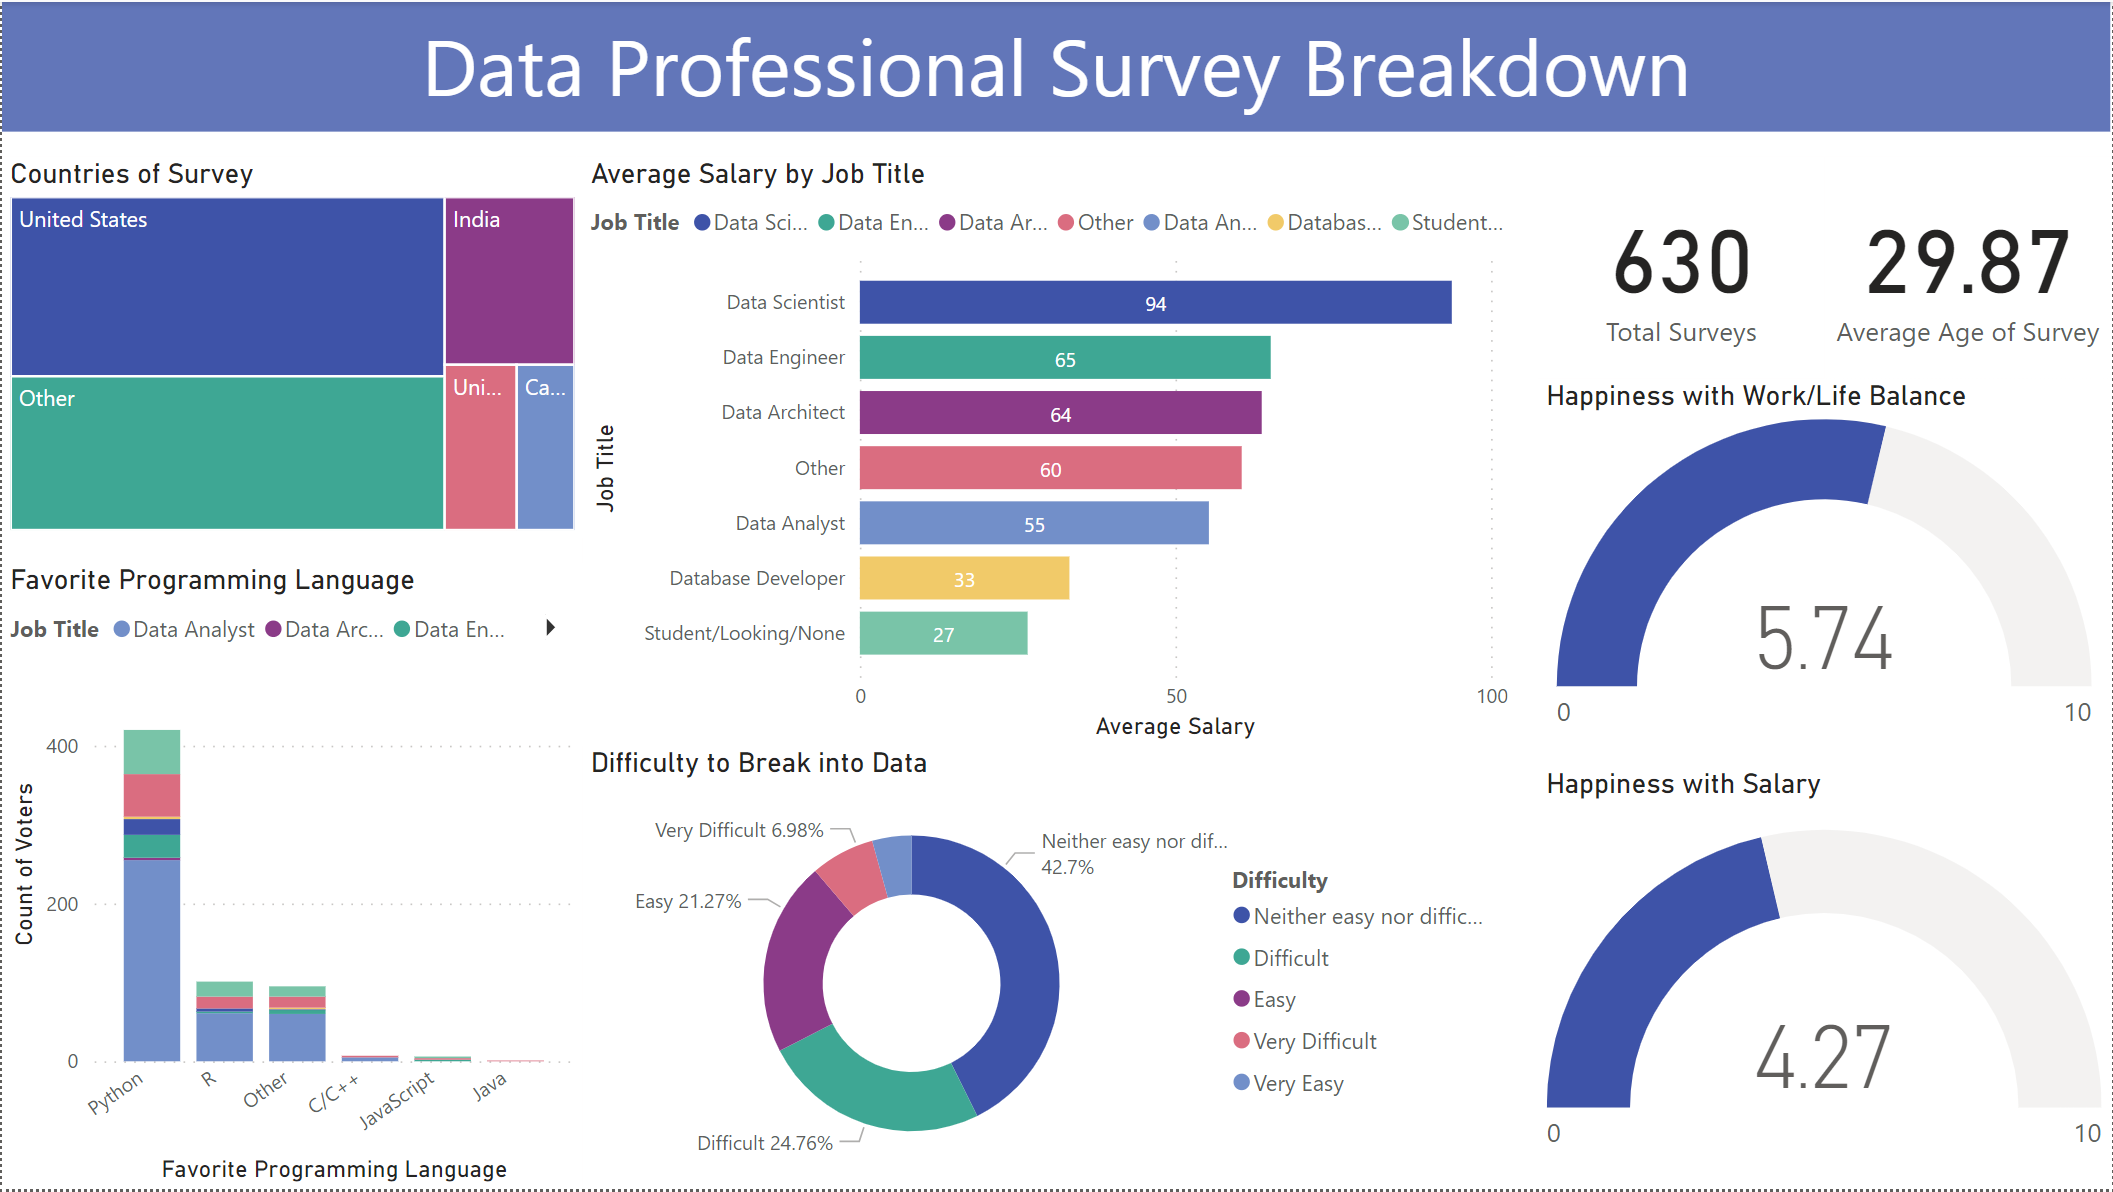

Layout of this report page (visuals, bound fields, positions):
{"tool":"powerbi","page":{"name":"Page 1","canvas":[1280,720],"ordinal":0},"visuals":[{"type":"textbox","box":[0,0,1279.5,78.5],"z":0},{"type":"card","fields":{"Values":["CountNonNull(Data Professional Survey.Unique ID)"]},"box":[932.5,93.7,173.5,135],"z":1000},{"type":"card","fields":{"Values":["Avg(Data Professional Survey.Q10 - Current Age)"]},"box":[1106,93.7,173.5,135],"z":2000},{"type":"barChart","title":"Average Salary by Job Title","fields":{"Category":["Data Professional Survey.Q1 - Which Title Best Fits your Current Role?.1"],"Y":["Avg(Data Professional Survey.Average Salary)"],"Series":["Data Professional Survey.Q1 - Which Title Best Fits your Current Role?.1"]},"box":[352.6,93.7,566.1,358.1],"z":3000},{"type":"columnChart","title":"Favorite Programming Language","fields":{"Category":["Data Professional Survey.Q5 - Favorite Programming Language.1"],"Y":["CountNonNull(Data Professional Survey.Unique ID)"],"Series":["Data Professional Survey.Q1 - Which Title Best Fits your Current Role?.1"]},"box":[0,340.2,352.6,380.1],"z":4000},{"type":"treemap","title":"Countries of Survey","fields":{"Values":["CountNonNull(Data Professional Survey.Q11 - Which Country do you live in?.1)"],"Group":["Data Professional Survey.Q11 - Which Country do you live in?.1"]},"box":[0,93.7,352.6,231.4],"z":5000},{"type":"gauge","title":"Happiness with Work/Life Balance","fields":{"Y":["Avg(Data Professional Survey.Q6 - How Happy are you in your Current Position with the following? (Work/Life Balance))"],"MinValue":["Min(Data Professional Survey.Q6 - How Happy are you in your Current Position with the following? (Work/Life Balance))1"],"MaxValue":["Max(Data Professional Survey.Q6 - How Happy are you in your Current Position with the following? (Work/Life Balance))2"]},"box":[932.5,228.6,347.1,223.1],"z":6000},{"type":"gauge","title":"Happiness with Salary","fields":{"Y":["Avg(Data Professional Survey.Q6 - How Happy are you in your Current Position with the following? (Salary))"],"MinValue":["Min(Data Professional Survey.Q6 - How Happy are you in your Current Position with the following? (Salary))"],"MaxValue":["Max(Data Professional Survey.Q6 - How Happy are you in your Current Position with the following? (Salary))"]},"box":[932.5,464.2,347.1,256.2],"z":7000},{"type":"donutChart","title":"Difficulty to Break into Data","fields":{"Category":["Data Professional Survey.Q7 - How difficult was it for you to break into Data?"],"Y":["CountNonNull(Data Professional Survey.Q7 - How difficult was it for you to break into Data?)"]},"box":[352.6,451.8,566.1,268.6],"z":8000}]}

Visuals, with their boxes in screenshot pixels (x1, y1, x2, y2), scaled from the page's 1280x720 canvas onto the 2113x1192 screenshot:
textbox: BBox(0, 0, 2112, 130)
card - CountNonNull(Data Professional Survey.Unique ID): BBox(1539, 155, 1826, 379)
card - Avg(Data Professional Survey.Q10 - Current Age): BBox(1826, 155, 2112, 379)
"Average Salary by Job Title" barChart: BBox(582, 155, 1517, 748)
"Favorite Programming Language" columnChart: BBox(0, 563, 582, 1191)
"Countries of Survey" treemap: BBox(0, 155, 582, 538)
"Happiness with Work/Life Balance" gauge: BBox(1539, 378, 2112, 748)
"Happiness with Salary" gauge: BBox(1539, 769, 2112, 1191)
"Difficulty to Break into Data" donutChart: BBox(582, 748, 1517, 1191)
